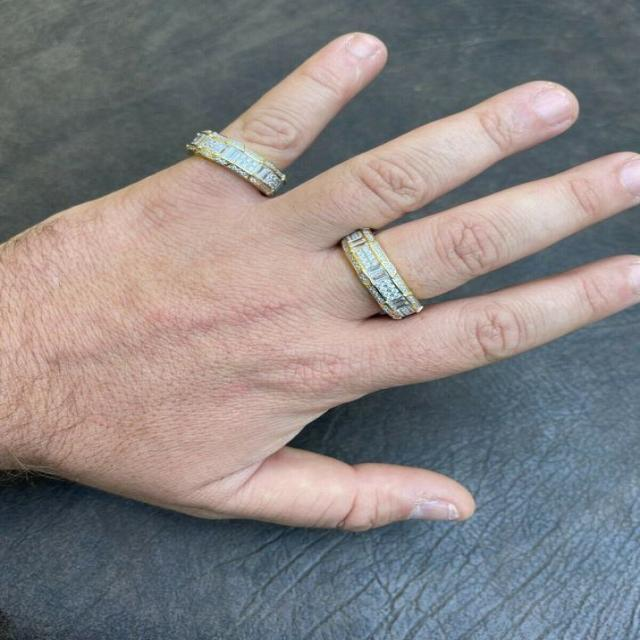Fingernail: (533, 91, 573, 125), (412, 501, 457, 519), (349, 36, 379, 59)
